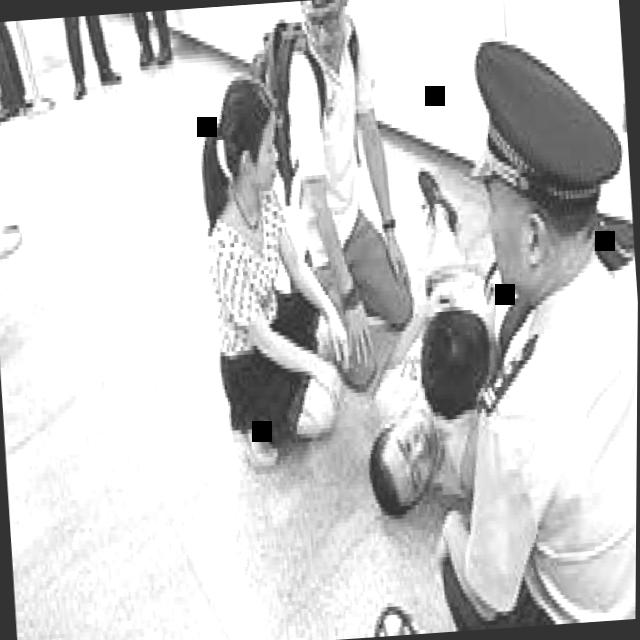Fall-Detected: (350, 156, 542, 495)
